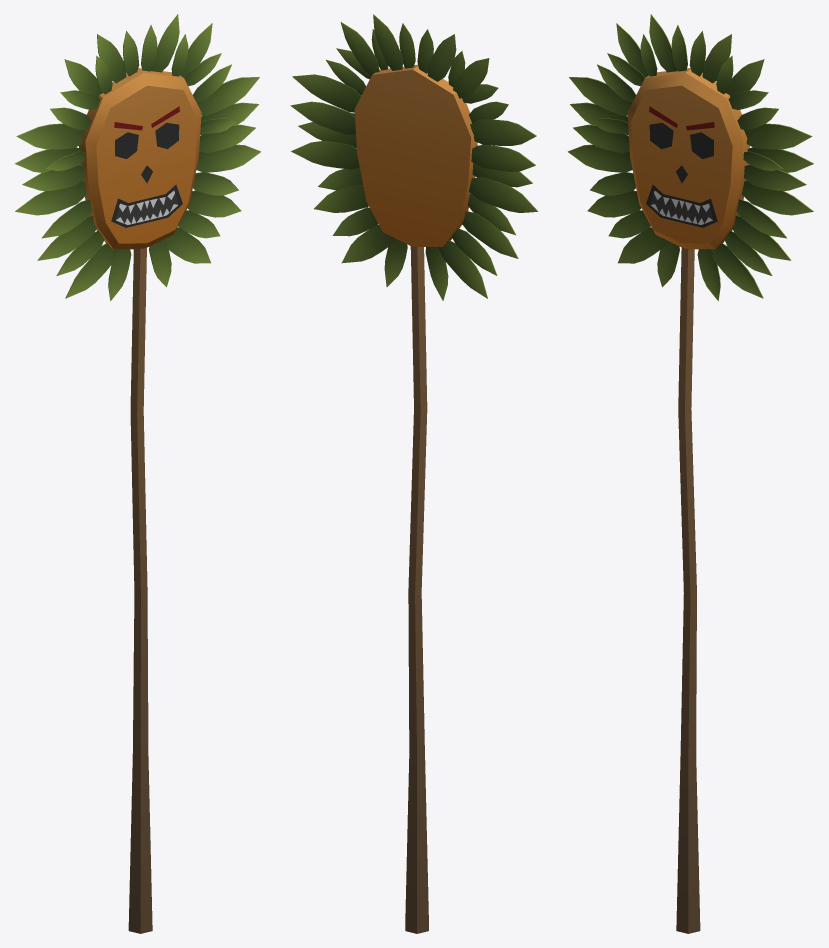
File: Mask_04.fbx
3 renders of one model, left to right at view 1: azimuth 30°, elevation 25°; view 2: azimuth 150°, elevation 25°; view 3: azimuth 330°, elevation 25°, orthographic.
Visible parts, largest first — view 1: Mask_04_LOD0; view 2: Mask_04_LOD0; view 3: Mask_04_LOD0.
Part boxes in pixels (x1=…): Mask_04_LOD0: x1=14, y1=14, x2=260, y2=933; Mask_04_LOD0: x1=290, y1=14, x2=538, y2=933; Mask_04_LOD0: x1=568, y1=14, x2=814, y2=933.
Size of what is drawn, in the model's own units: 0.4394 by 1.54 by 0.0384.
